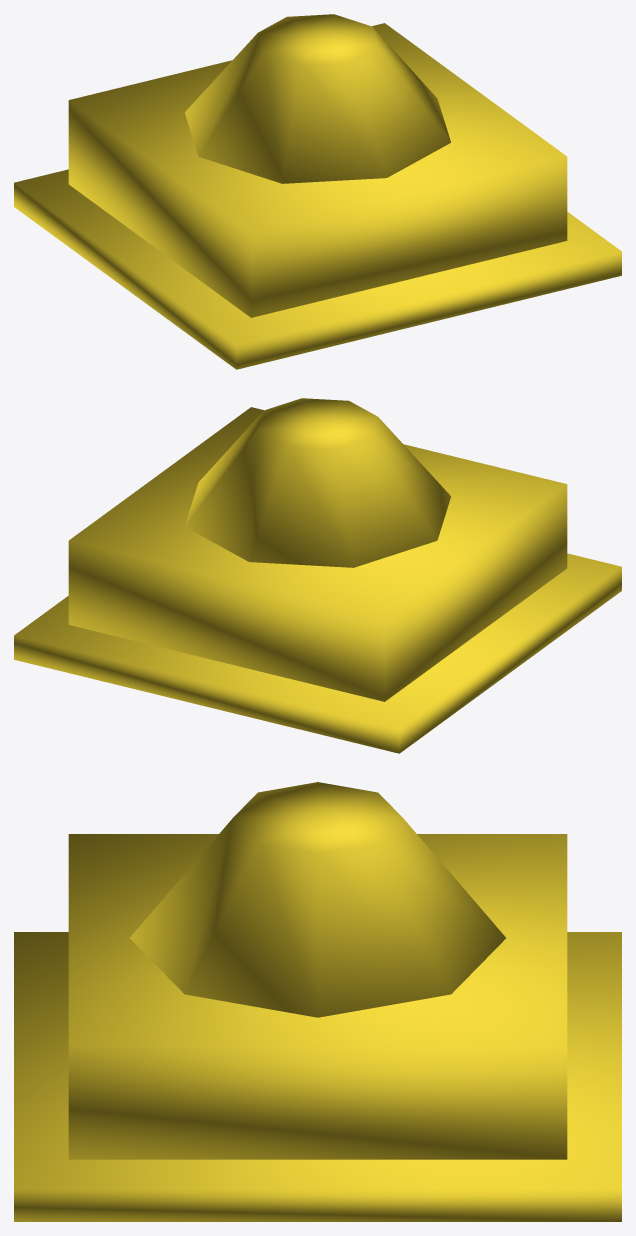
Rendered from shaper-rofan-tiara.glb.
3 renders of one model, top to bottom at view 1: azimuth 30°, elevation 25°; view 2: azimuth 150°, elevation 25°; view 3: azimuth 270°, elevation 25°, orthographic. The views are drawn at different scales.
Parts seen in each view (by area): view 1: shaper-rofan-tiara; view 2: shaper-rofan-tiara; view 3: shaper-rofan-tiara.
Part boxes in pixels (bbox=[...]): shaper-rofan-tiara: bbox=[14, 14, 621, 369]; shaper-rofan-tiara: bbox=[14, 398, 621, 753]; shaper-rofan-tiara: bbox=[14, 782, 621, 1221].
Size of the model in its own units: 0.18 by 0.09 by 0.18.
